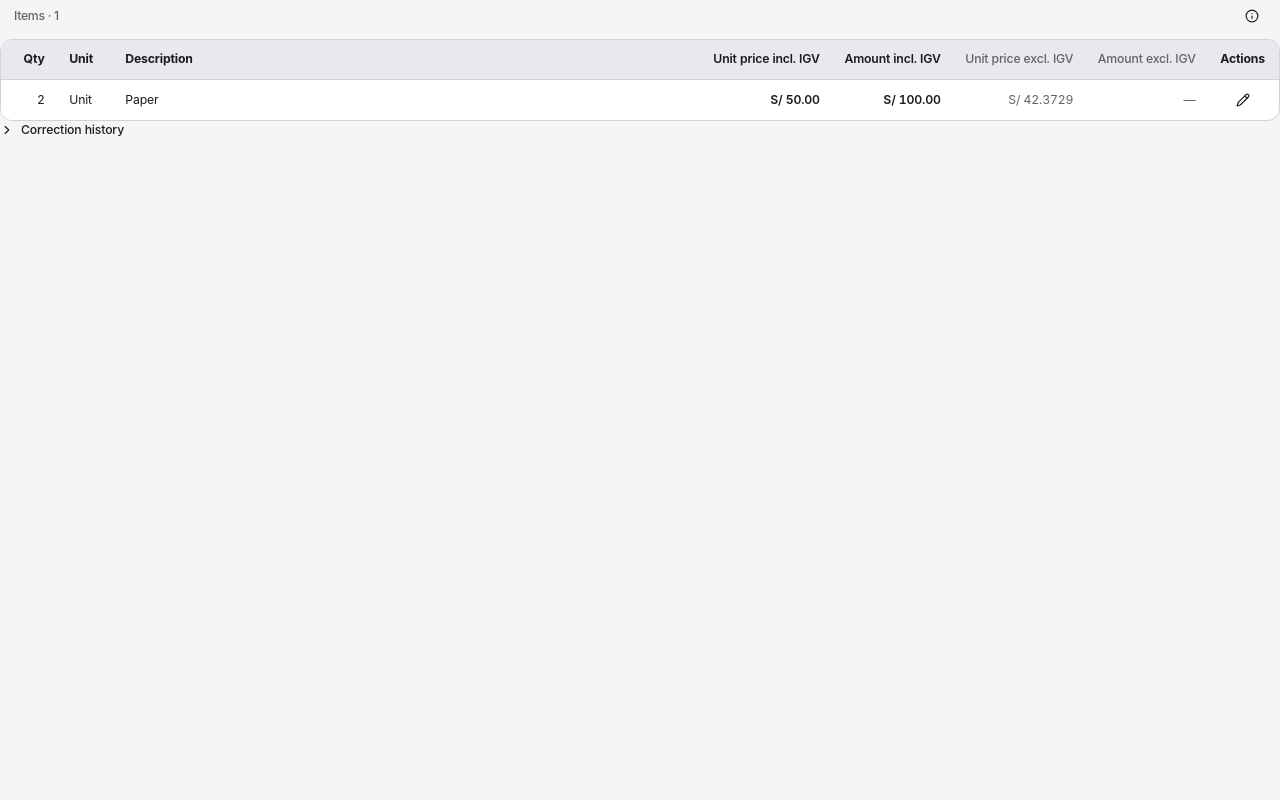
Test: edits an Item in the phone sheet and sends only the changed field
Click the button named "Edit line 1": (1243, 100) 1229,86 -> 1257,114
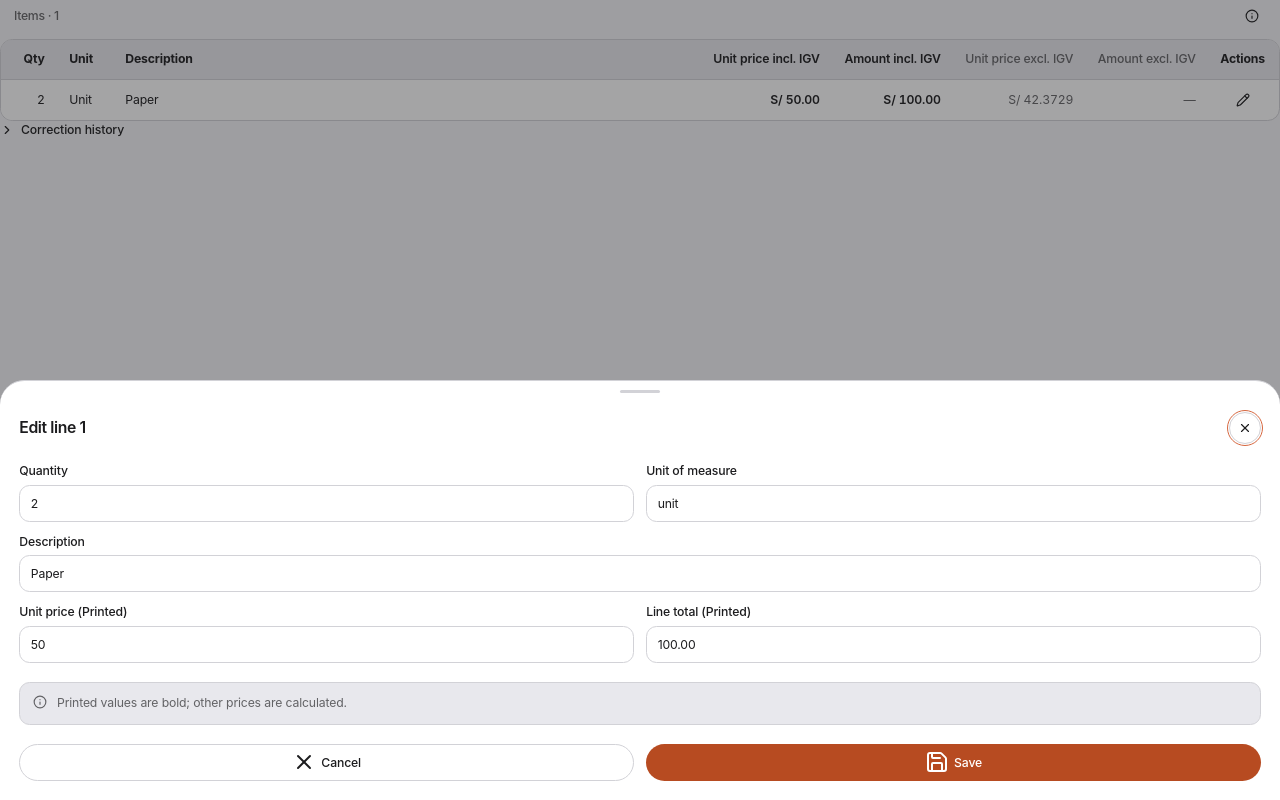
Replace the text in the field labelled "Quantity" with "3": (327, 503) 19,485 -> 634,522
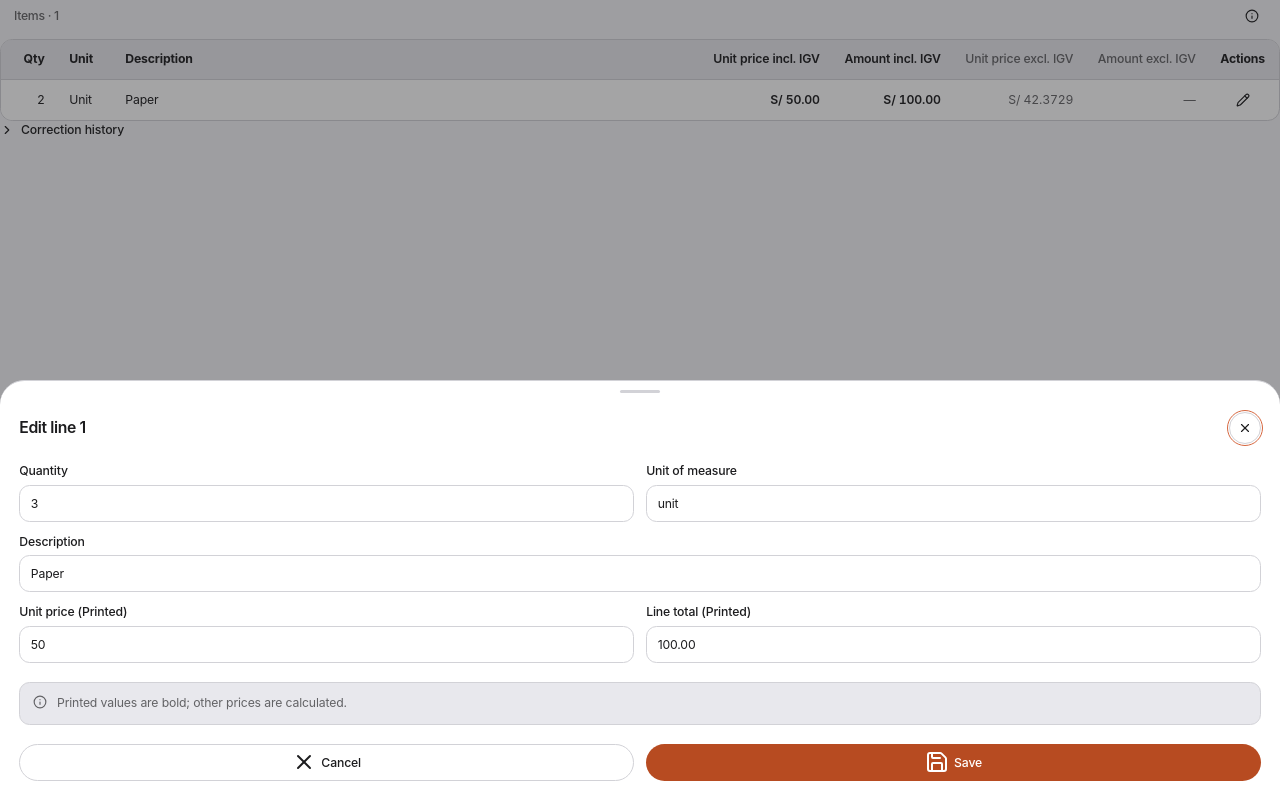
Click the button "Save": (953, 762) 646,744 -> 1261,781
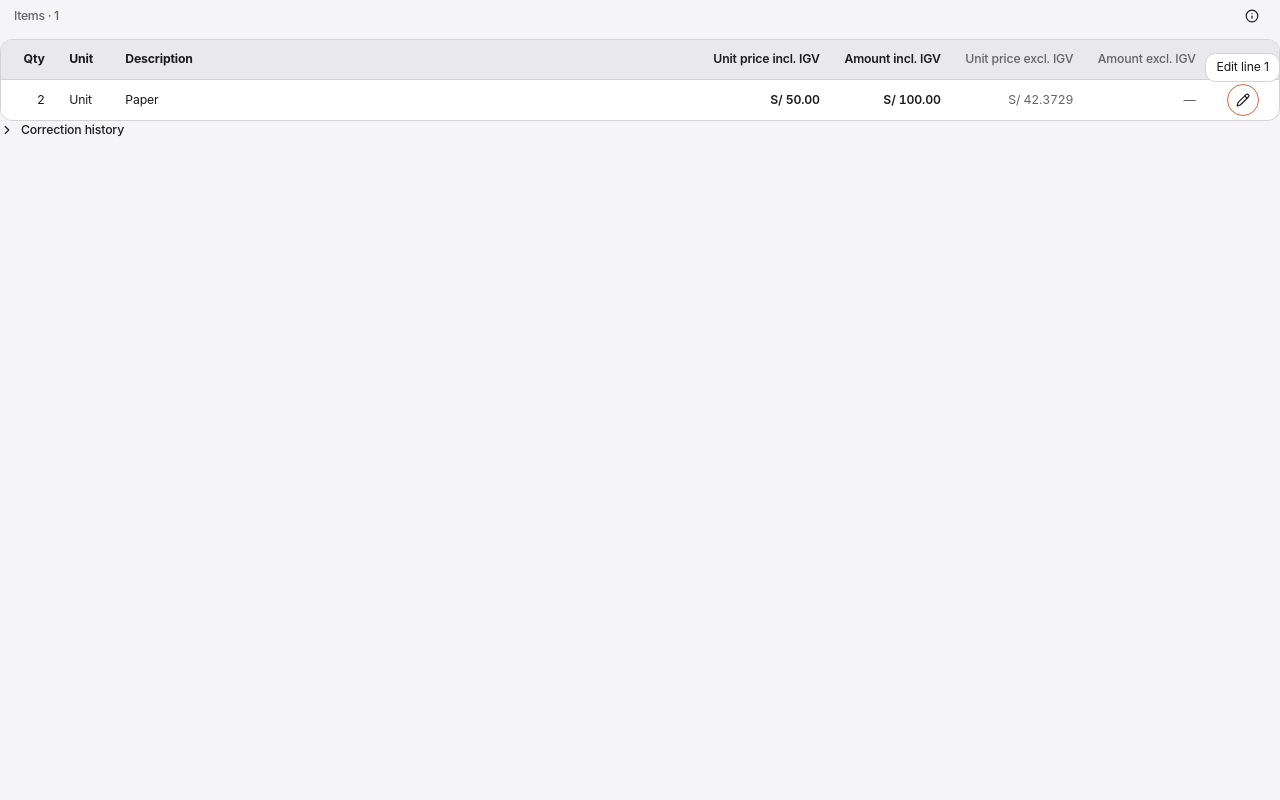
Expected: the dialog is gone
